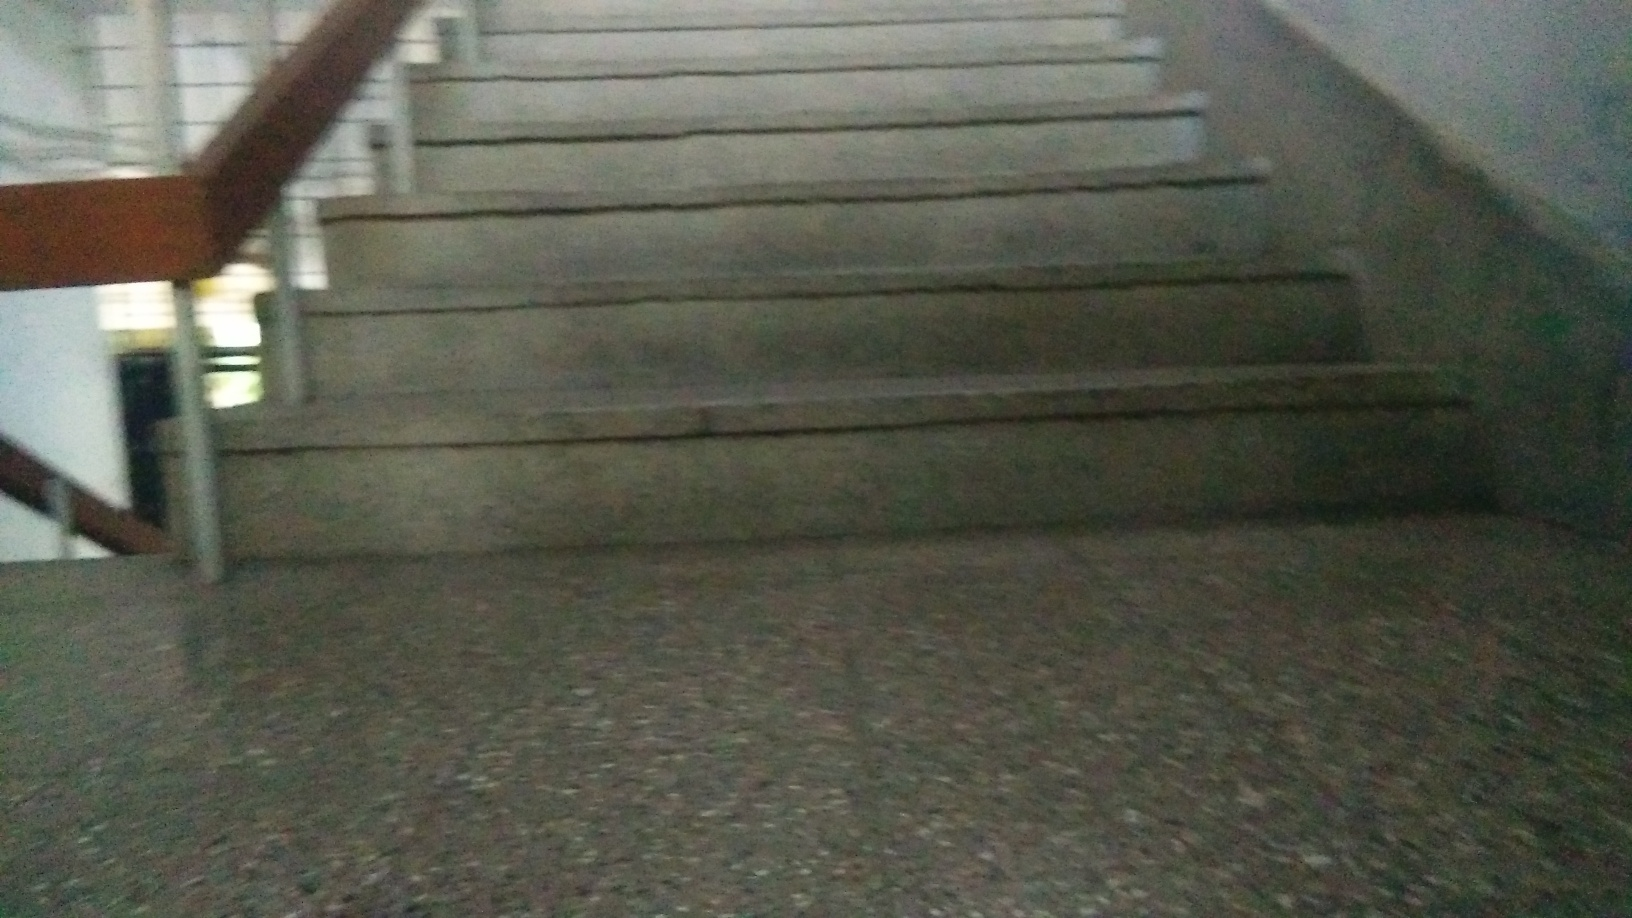stairs_up: (219, 12, 1464, 538)
